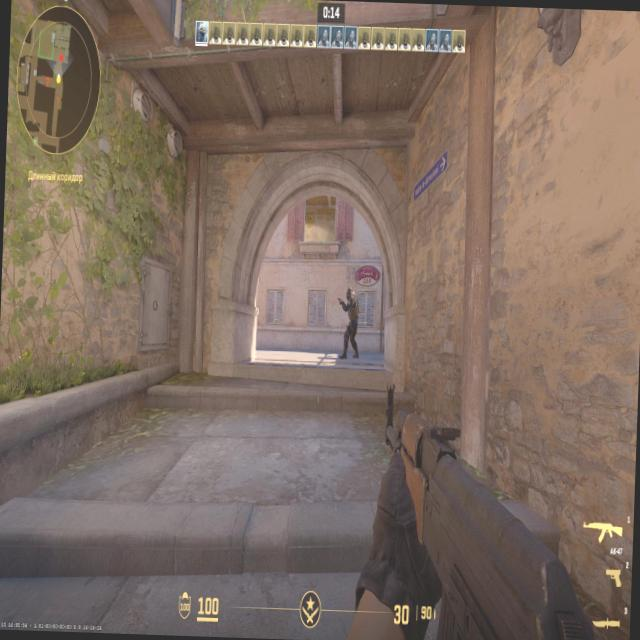CT: (343, 285, 357, 356)
CT_heat: (344, 288, 351, 298)
